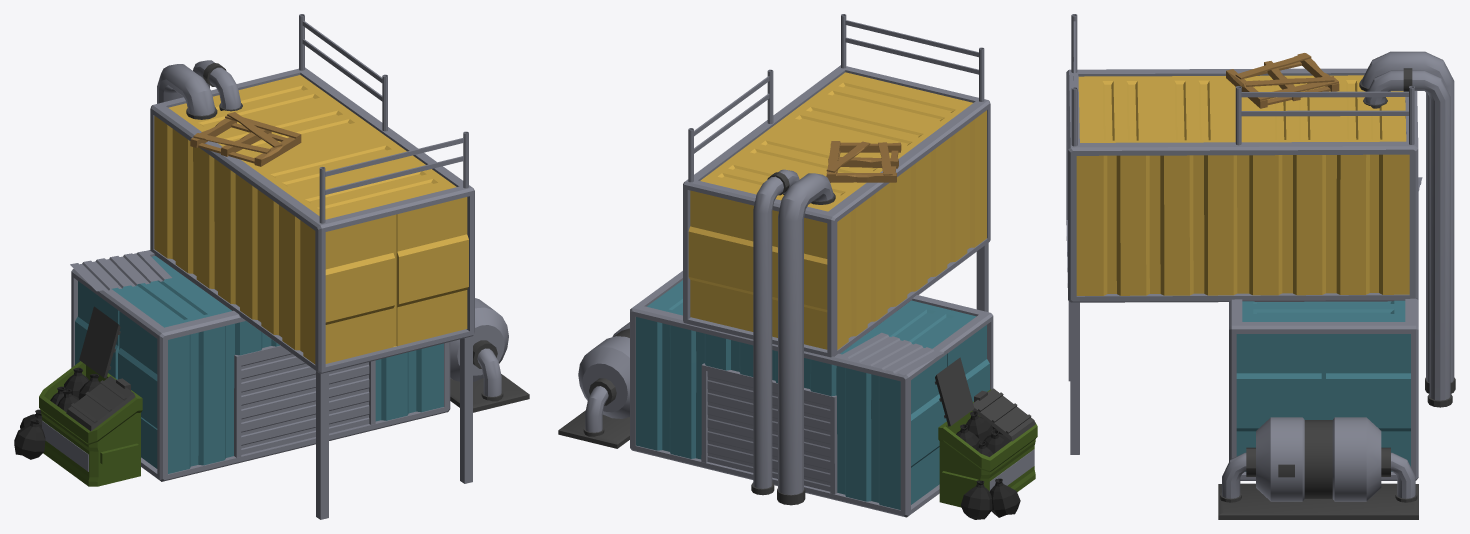
The model's file is structure-PB5Cd3dL24.glb.
3 renders of one model, left to right at view 1: azimuth 30°, elevation 25°; view 2: azimuth 150°, elevation 25°; view 3: azimuth 270°, elevation 25°, orthographic. The views are drawn at different scales.
Visible parts, largest first — view 1: Structure_4; view 2: Structure_4; view 3: Structure_4.
Boxes of the visible parts, x1,y1,x2,y2 form: Structure_4: [14, 14, 529, 519]; Structure_4: [558, 14, 1037, 519]; Structure_4: [1066, 14, 1455, 519].
Bounding box in the file's own units: 10.39 × 7.66 × 7.41.
